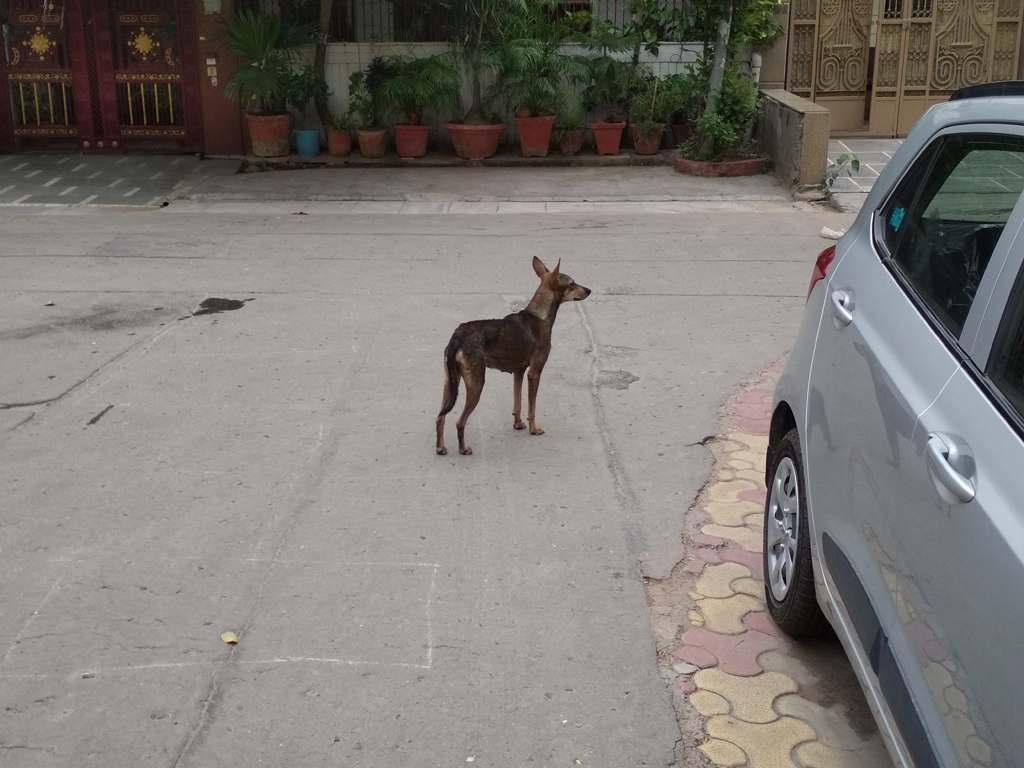dog: (437, 257, 590, 455)
